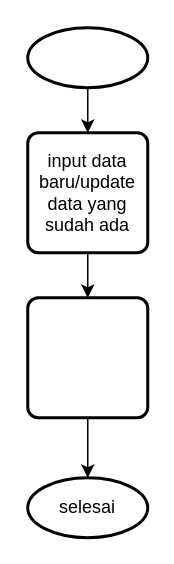
This 174x564 diagram has some shape labels left out. The shapes that lost their labels are listed below. From the top down, each one's box as (x1, y1, x2, y2) in pixels, then its label:
(26, 26, 148, 88): mulai
(26, 296, 148, 418): konfirmasi update
